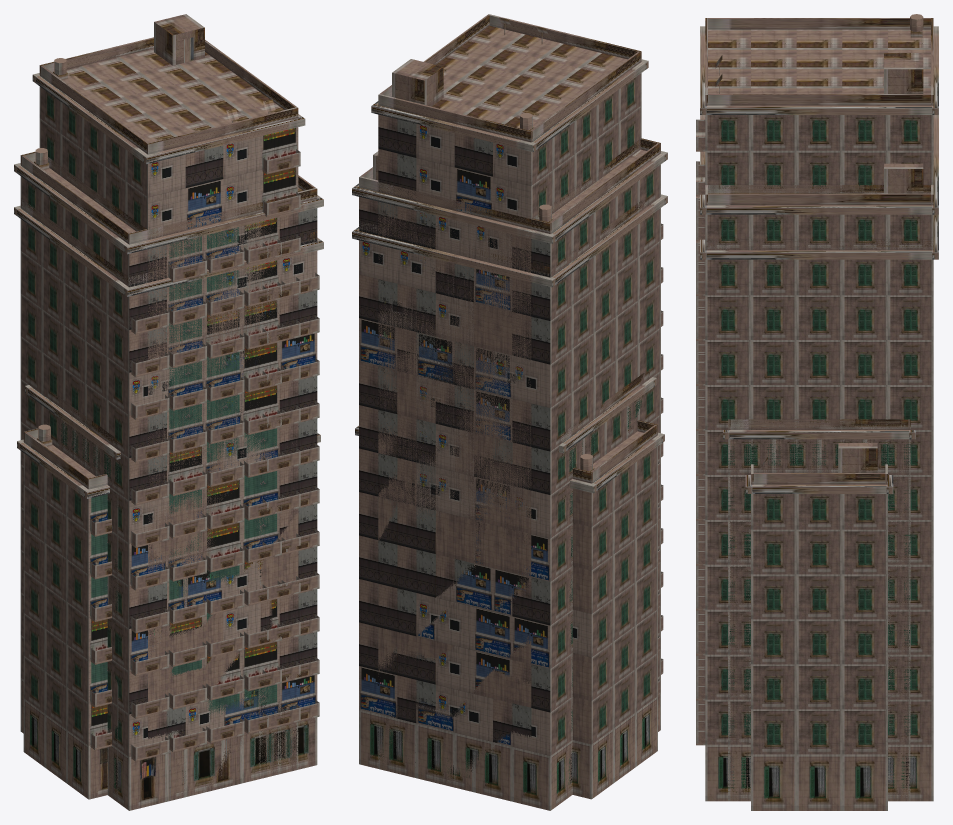
3 renders of one model, left to right at view 1: azimuth 30°, elevation 25°; view 2: azimuth 150°, elevation 25°; view 3: azimuth 270°, elevation 25°, orthographic. The views are drawn at different scales.
Visible parts, largest first — view 1: Khedivial_5x5_f12_v0, Khedivial_4x5_f14_v1, Khedivial_4x5_f12_v0, Khedivial_6x3_f6_v0, Khedivial_5x5_f11_v0, Khedivial_5x4_f7_v1; view 2: Khedivial_5x5_f12_v0, Khedivial_4x5_f12_v0, Khedivial_4x5_f14_v1, Khedivial_6x3_f6_v0, Khedivial_5x5_f11_v0, Khedivial_5x4_f7_v1; view 3: Khedivial_5x5_f12_v0, Khedivial_6x3_f6_v0, Khedivial_4x5_f14_v1, Khedivial_5x4_f7_v1, Khedivial_5x5_f11_v0, Khedivial_4x5_f12_v0.
Part boxes in pixels (x1,y1,x2,y2): Khedivial_5x5_f12_v0: (14,148,323,810); Khedivial_4x5_f14_v1: (32,14,305,728); Khedivial_4x5_f12_v0: (48,157,305,798); Khedivial_6x3_f6_v0: (17,424,320,799); Khedivial_5x5_f11_v0: (14,198,323,761); Khedivial_5x4_f7_v1: (25,385,120,802); Khedivial_5x5_f12_v0: (352,138,667,810); Khedivial_4x5_f12_v0: (371,140,640,786); Khedivial_4x5_f14_v1: (371,14,648,227); Khedivial_6x3_f6_v0: (355,420,664,799); Khedivial_5x5_f11_v0: (352,194,667,674); Khedivial_5x4_f7_v1: (559,368,656,798); Khedivial_5x5_f12_v0: (696,115,938,801); Khedivial_6x3_f6_v0: (745,443,893,810); Khedivial_4x5_f14_v1: (696,14,938,730); Khedivial_5x4_f7_v1: (723,419,915,801); Khedivial_5x5_f11_v0: (696,214,938,745); Khedivial_4x5_f12_v0: (708,185,930,193).
Size of the model in its own units: 21.8 by 60.7 by 18.6.
1 material, 1 textured.
